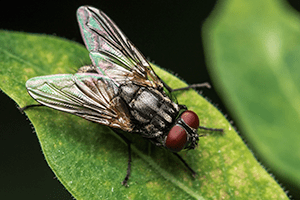house fly: (24, 3, 226, 187)
